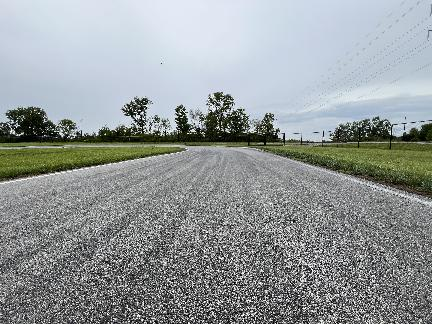Grass: (257, 147, 431, 192), (0, 147, 185, 178)
Lane: (0, 147, 431, 323)
